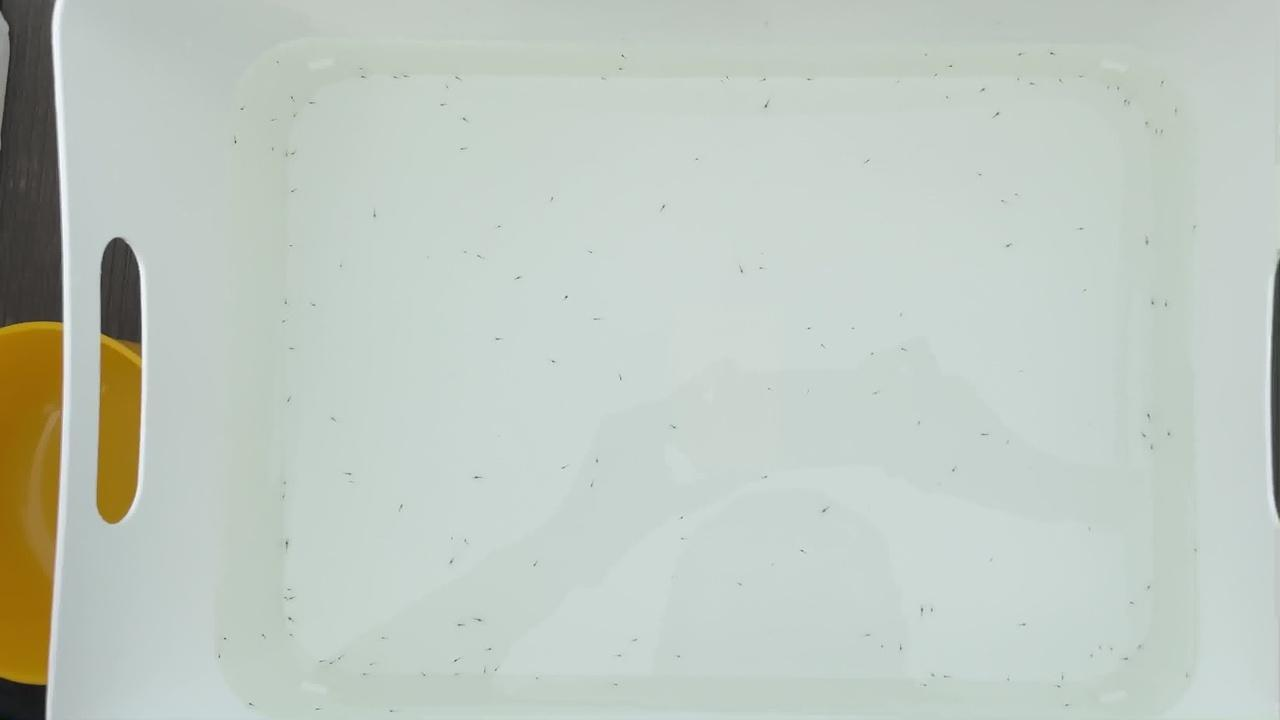shrimp: (267, 118, 280, 126), (281, 152, 294, 160), (289, 151, 302, 159), (290, 113, 303, 121), (371, 212, 384, 220), (435, 102, 448, 110), (945, 63, 958, 71), (980, 85, 993, 93), (993, 107, 1006, 115), (1076, 74, 1089, 82), (1104, 85, 1117, 93), (1009, 190, 1022, 198), (1143, 240, 1156, 248), (1190, 224, 1203, 232), (1161, 301, 1174, 309), (476, 251, 489, 259), (326, 417, 339, 425), (279, 495, 292, 503), (286, 595, 299, 603), (484, 645, 497, 653), (448, 656, 461, 664), (819, 506, 832, 514), (877, 644, 890, 652), (896, 645, 909, 653), (921, 683, 934, 691), (943, 672, 956, 680), (986, 556, 999, 564), (1028, 80, 1040, 88), (1155, 80, 1167, 88), (861, 157, 873, 165), (308, 301, 320, 309), (380, 633, 392, 641), (446, 556, 458, 564), (446, 534, 458, 542), (480, 667, 492, 675), (490, 666, 502, 674), (612, 683, 624, 691), (1094, 645, 1106, 653), (231, 140, 244, 147), (237, 106, 250, 113), (287, 96, 300, 103), (268, 146, 281, 153), (272, 59, 285, 66), (356, 67, 369, 74), (288, 190, 301, 197), (460, 144, 473, 151), (459, 116, 472, 123), (441, 83, 454, 90), (455, 72, 468, 79), (399, 73, 412, 80), (389, 75, 402, 82), (597, 77, 610, 84), (614, 65, 627, 72), (618, 54, 631, 61), (763, 101, 776, 108), (759, 77, 772, 84), (805, 77, 818, 84), (918, 50, 931, 57), (932, 70, 945, 77), (944, 96, 957, 103), (1011, 77, 1024, 84), (1011, 50, 1024, 57), (1046, 50, 1059, 57), (1113, 86, 1126, 93), (1121, 99, 1134, 106), (1125, 101, 1138, 108), (1171, 107, 1184, 114), (1141, 120, 1154, 127), (1151, 128, 1164, 135), (1157, 128, 1170, 135), (973, 172, 986, 179), (999, 199, 1012, 206), (1004, 246, 1017, 253), (1147, 301, 1160, 308), (1080, 287, 1093, 294), (1164, 432, 1177, 439), (1146, 445, 1159, 452), (1136, 432, 1149, 439), (1145, 412, 1158, 419), (1003, 439, 1016, 446), (947, 469, 960, 476), (914, 419, 927, 426), (870, 390, 883, 397), (866, 349, 879, 356), (898, 345, 911, 352), (896, 310, 909, 317), (848, 324, 861, 331), (818, 342, 831, 349), (802, 322, 815, 329), (803, 387, 816, 394), (762, 387, 775, 394), (755, 264, 768, 271), (658, 205, 671, 212), (693, 153, 706, 160), (548, 193, 561, 200), (584, 249, 597, 256), (558, 295, 571, 302), (594, 316, 607, 323), (546, 358, 559, 365), (514, 273, 527, 280), (458, 250, 471, 257), (495, 222, 508, 229), (616, 375, 629, 382), (668, 423, 681, 430), (586, 482, 599, 489), (591, 459, 604, 466), (558, 465, 571, 472), (471, 477, 484, 484), (280, 300, 293, 307), (275, 321, 288, 328), (287, 344, 300, 351), (280, 401, 293, 408), (344, 471, 357, 478), (279, 480, 292, 487), (395, 504, 408, 511), (219, 636, 232, 643), (247, 703, 260, 710), (259, 632, 272, 639), (287, 632, 300, 639), (279, 593, 292, 600), (282, 588, 295, 595), (282, 539, 295, 546), (316, 658, 329, 665), (326, 662, 339, 669), (334, 652, 347, 659), (313, 707, 326, 714), (362, 672, 375, 679), (368, 659, 381, 666), (460, 536, 473, 543), (531, 561, 544, 568), (472, 617, 485, 624), (454, 622, 467, 629), (451, 671, 464, 678), (420, 672, 433, 679), (387, 710, 400, 717), (532, 675, 545, 682), (614, 655, 627, 662), (631, 635, 644, 642), (674, 655, 687, 662), (735, 581, 748, 588), (676, 535, 689, 542), (677, 514, 690, 521), (762, 472, 775, 479), (800, 548, 813, 555), (917, 607, 930, 614), (926, 607, 939, 614), (927, 671, 940, 678), (1004, 677, 1017, 684), (1019, 620, 1032, 627), (1057, 673, 1070, 680), (1054, 684, 1067, 691), (1063, 703, 1076, 710), (1086, 653, 1099, 660), (1106, 647, 1119, 654), (1121, 657, 1134, 664), (1134, 643, 1147, 650), (1184, 672, 1197, 679), (1191, 546, 1204, 553), (1141, 586, 1154, 593), (1086, 527, 1099, 534), (308, 99, 320, 106), (358, 74, 370, 81), (723, 75, 735, 82), (1055, 77, 1067, 84), (1078, 226, 1090, 233), (978, 433, 990, 440), (734, 267, 746, 274), (491, 335, 503, 342), (335, 262, 347, 269), (285, 241, 297, 248), (214, 655, 226, 662), (285, 613, 297, 620), (862, 633, 874, 640), (1128, 601, 1140, 608)
